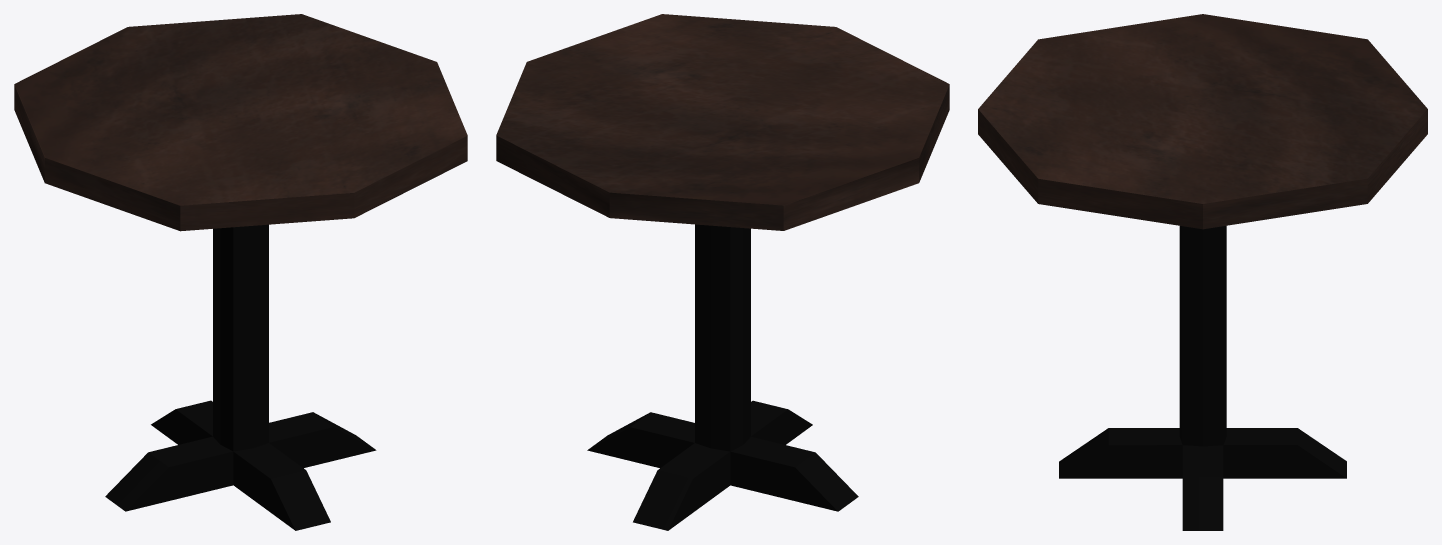
File: Dark_Chair.fbx
The picture shows the model from 3 angles, left to right: view 1: azimuth 30°, elevation 25°; view 2: azimuth 150°, elevation 25°; view 3: azimuth 270°, elevation 25°; orthographic projection.
Parts seen in each view (by area): view 1: Chair; view 2: Chair; view 3: Chair.
Part boxes in pixels (bbox=[...]): Chair: bbox=[14, 14, 467, 530]; Chair: bbox=[496, 14, 949, 530]; Chair: bbox=[978, 14, 1427, 530].
Bounding box in the file's own units: 65.89 × 58.38 × 65.89.
Materials: 2 (1 with a texture image).
